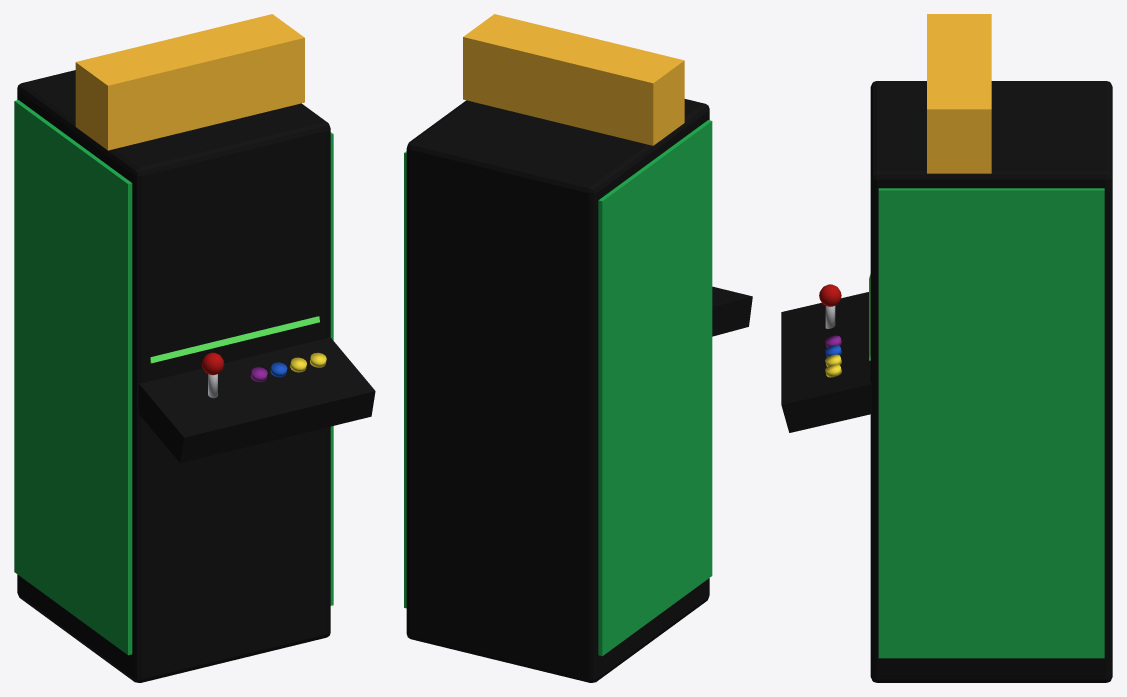
Rendered from arcade_cabinet_b.glb.
3 views of the same model, side by side, from view 1: azimuth 30°, elevation 25°; view 2: azimuth 150°, elevation 25°; view 3: azimuth 270°, elevation 25° (orthographic). The views are drawn at different scales.
Parts seen in each view (by area): view 1: arcade_cabinet_b; view 2: arcade_cabinet_b; view 3: arcade_cabinet_b.
Boxes of the visible parts, x1,y1,x2,y2 form: arcade_cabinet_b: (14, 14, 375, 682); arcade_cabinet_b: (404, 14, 752, 682); arcade_cabinet_b: (781, 14, 1112, 682).
Bounding box in the file's own units: 0.73 × 1.97 × 1.03.
Materials: 1 (1 with a texture image).
